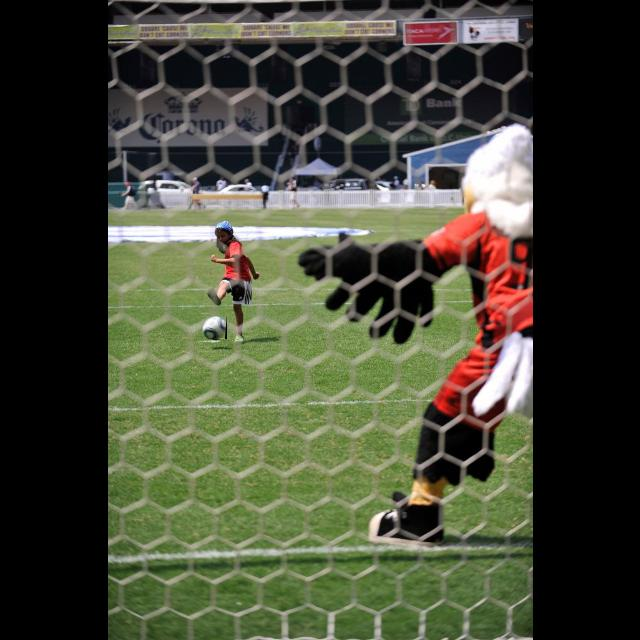Football: (201, 313, 227, 339)
